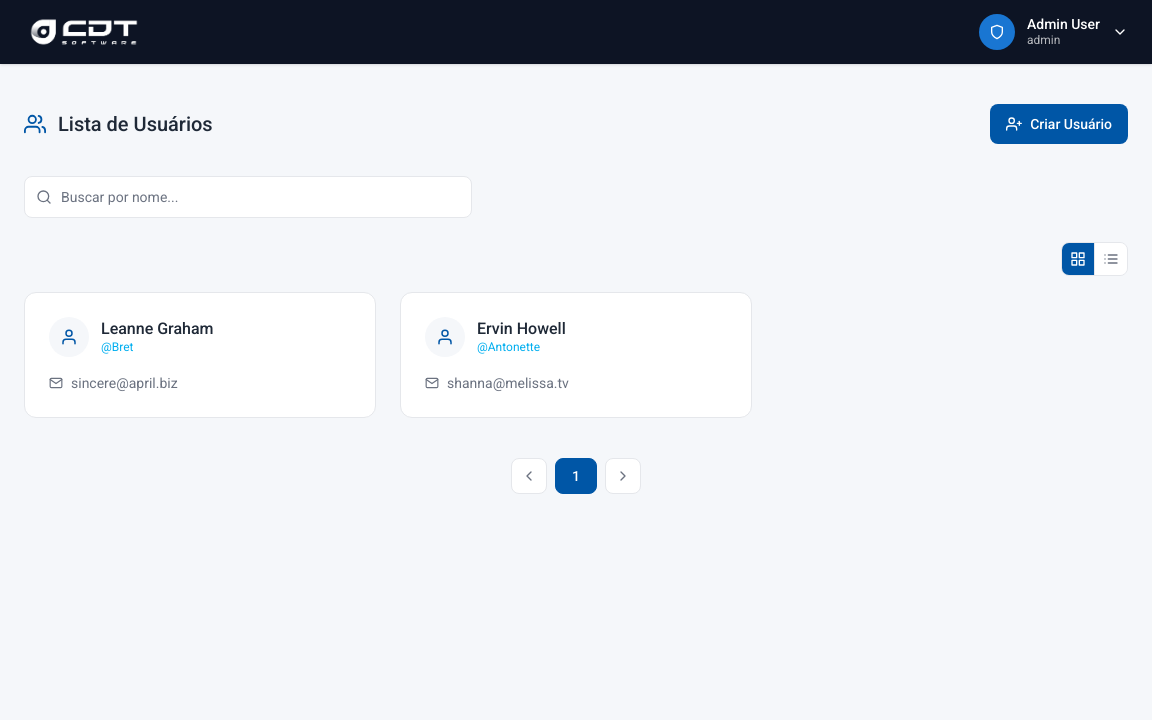
it: App — integration › opens the modal with full user details when a card is clicked
expect the heading "Leanne Graham" is shown: met, box [101, 319, 214, 339]
Click the button "Leanne Graham @Bret Sincere@april.biz".
click(69, 337)  # box [24, 292, 376, 418]
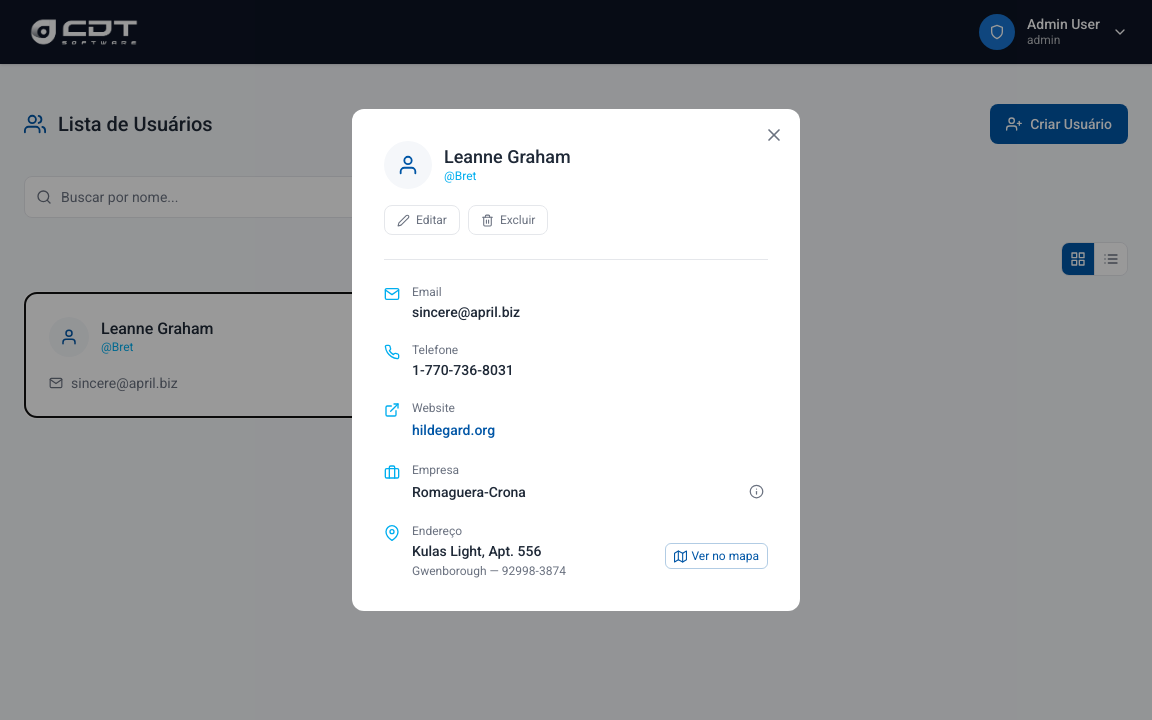
expect the dialog is shown: met
expect the text "Sincere@april.biz" is shown: met, box [412, 304, 520, 320]
expect the text "1-770-736-8031" is shown: met, box [412, 362, 514, 378]
